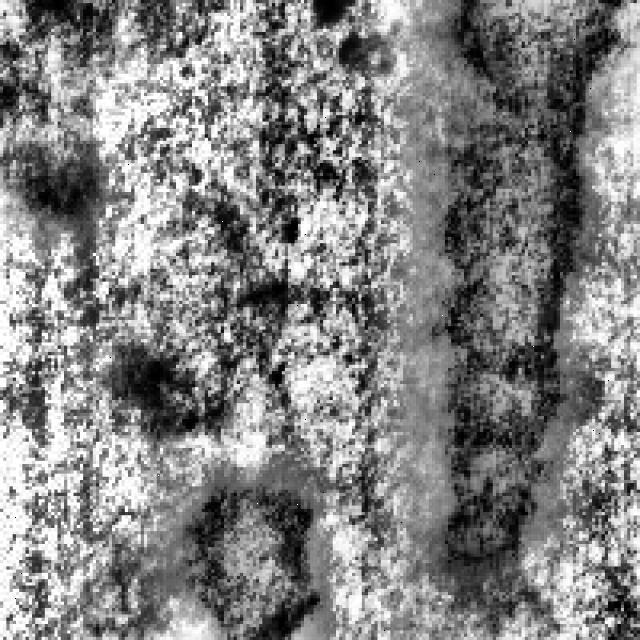Scratches: (419, 0, 620, 566), (166, 467, 324, 634)
